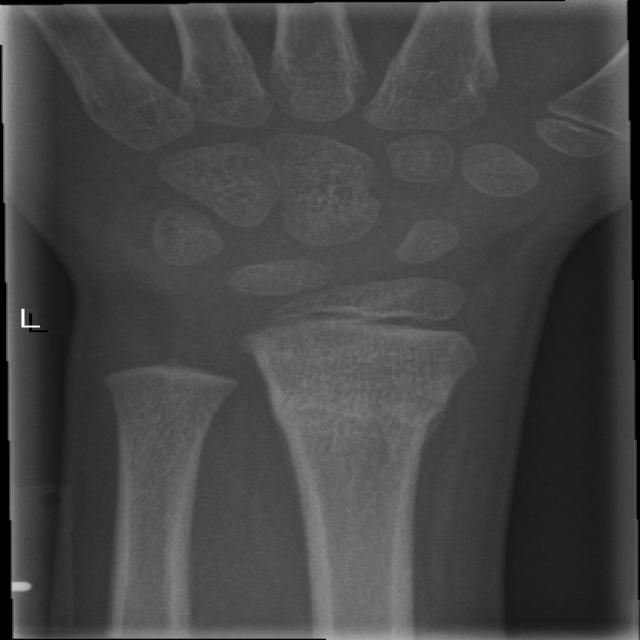radius fracture: (254, 369, 477, 505)
